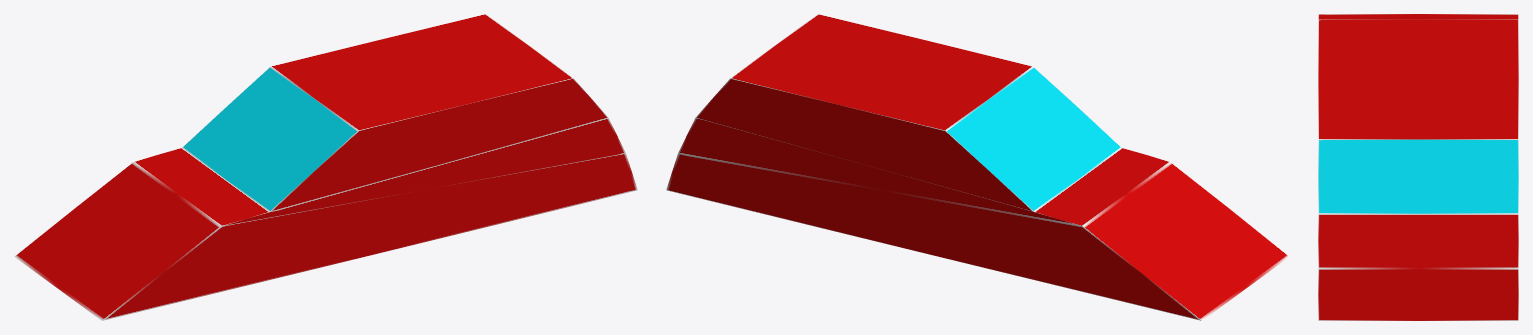
Rendered from PlayerCar.obj.
3 renders of one model, left to right at view 1: azimuth 30°, elevation 25°; view 2: azimuth 150°, elevation 25°; view 3: azimuth 270°, elevation 25°, orthographic. The views are drawn at different scales.
Parts seen in each view (by area): view 1: Cube; view 2: Cube; view 3: Cube.
Part boxes in pixels (x1,y1,x2,y2): Cube: (14, 14, 637, 320); Cube: (666, 14, 1289, 320); Cube: (1318, 14, 1518, 320).
Size of the model in its own units: 7.04 by 1.6 by 2.
